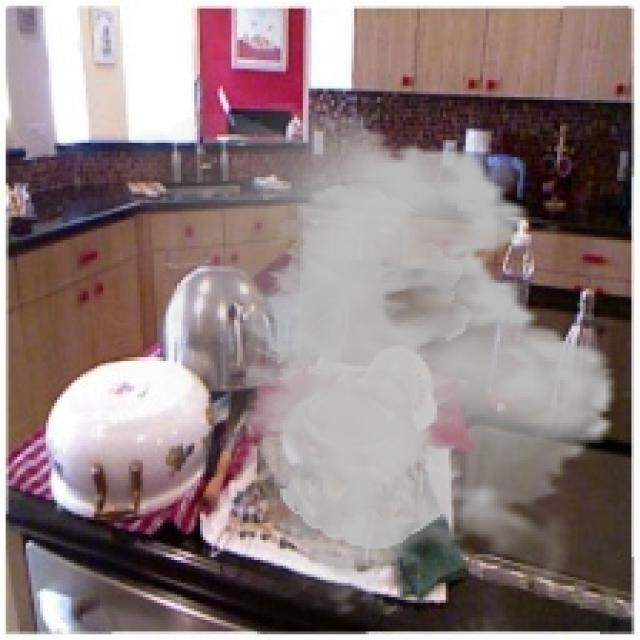smoke: (83, 103, 637, 617)
